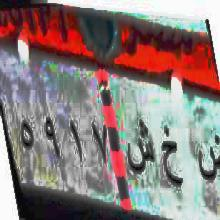1: (66, 108, 86, 172)
5: (19, 113, 36, 165)
7: (90, 117, 110, 171)
9: (44, 108, 62, 174)
khaa: (160, 124, 184, 195)
sheen: (124, 113, 156, 181)
